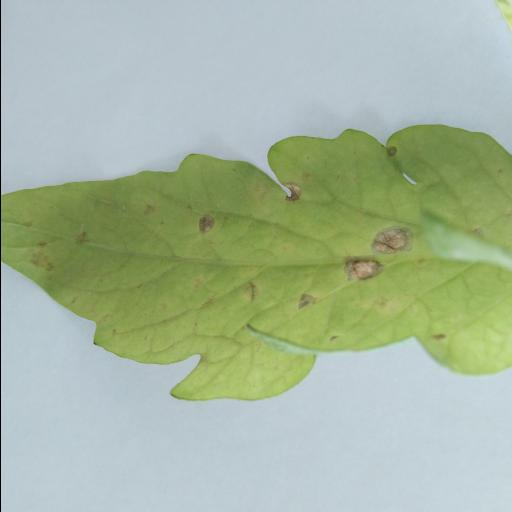disease_tomato: (0, 121, 512, 366)
